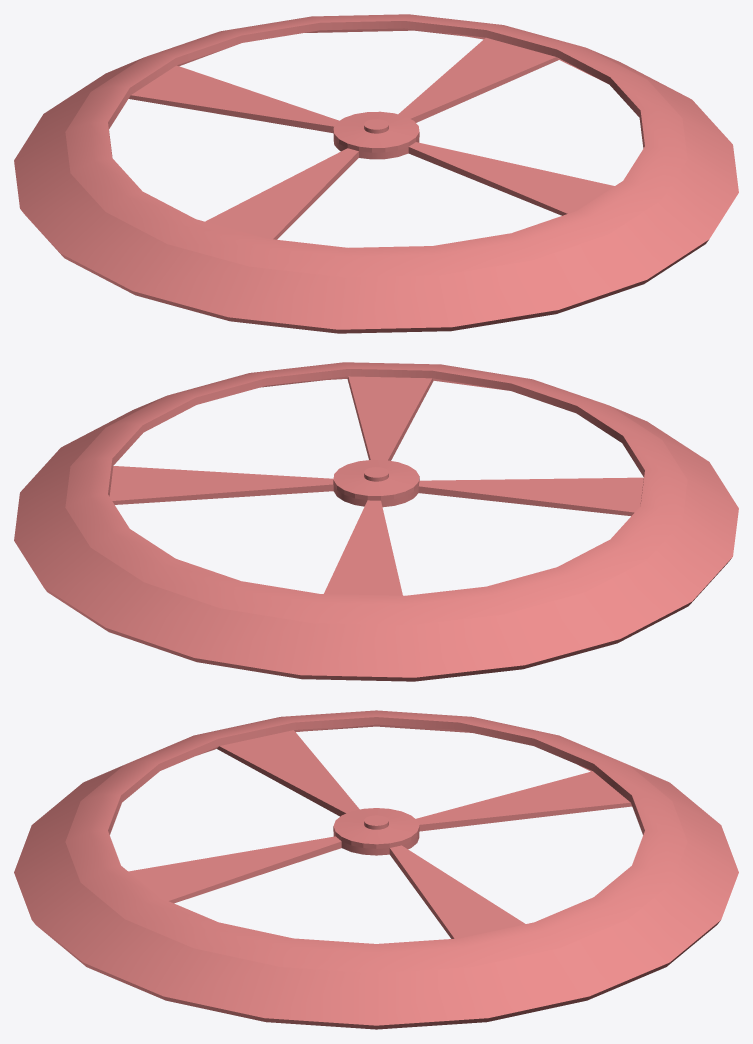
File: FrisbeeAro.fbx
The picture shows the model from 3 angles, top to bottom: view 1: azimuth 30°, elevation 25°; view 2: azimuth 150°, elevation 25°; view 3: azimuth 270°, elevation 25°; orthographic projection.
Visible parts, largest first — view 1: frisbee_aro; view 2: frisbee_aro; view 3: frisbee_aro.
Boxes of the visible parts, x1,y1,x2,y2 form: frisbee_aro: (14,14,738,333); frisbee_aro: (14,362,738,681); frisbee_aro: (14,710,738,1029).
Size of the model in its own units: 6.22 by 0.544 by 6.22.
